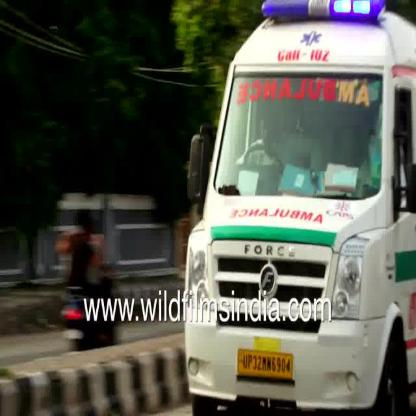priority: (174, 4, 416, 416)
